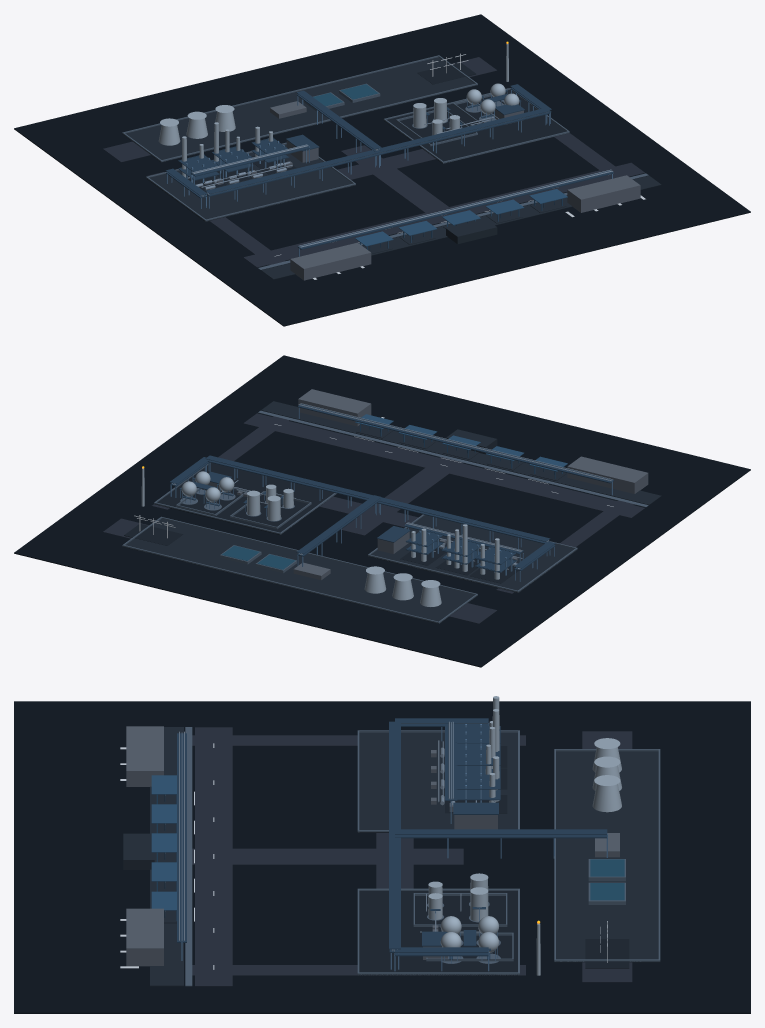
File: chunk-sector-east-static.detailed.glb
3 views of the same model, one above another, from view 1: azimuth 30°, elevation 25°; view 2: azimuth 150°, elevation 25°; view 3: azimuth 270°, elevation 25° (orthographic). The views are drawn at different scales.
Parts seen in each view (by area): view 1: dtmesh:0:1 (×4), dtmesh:0:0 (×10), dtmesh:1:0; view 2: dtmesh:0:1 (×4), dtmesh:0:0 (×10), dtmesh:1:0; view 3: dtmesh:0:1 (×4), dtmesh:0:0 (×10), dtmesh:1:0.
Boxes of the visible parts, x1,y1,x2,y2 form: dtmesh:0:1 (×4): (14, 14, 750, 326); dtmesh:0:0 (×10): (122, 43, 661, 280); dtmesh:1:0: (158, 83, 519, 177); dtmesh:0:1 (×4): (14, 355, 750, 667); dtmesh:0:0 (×10): (122, 389, 661, 623); dtmesh:1:0: (181, 471, 499, 606); dtmesh:0:1 (×4): (14, 701, 750, 1013); dtmesh:0:0 (×10): (123, 718, 660, 986); dtmesh:1:0: (428, 696, 621, 952).
Bounding box in the file's own units: 236 × 22.94 × 236.
